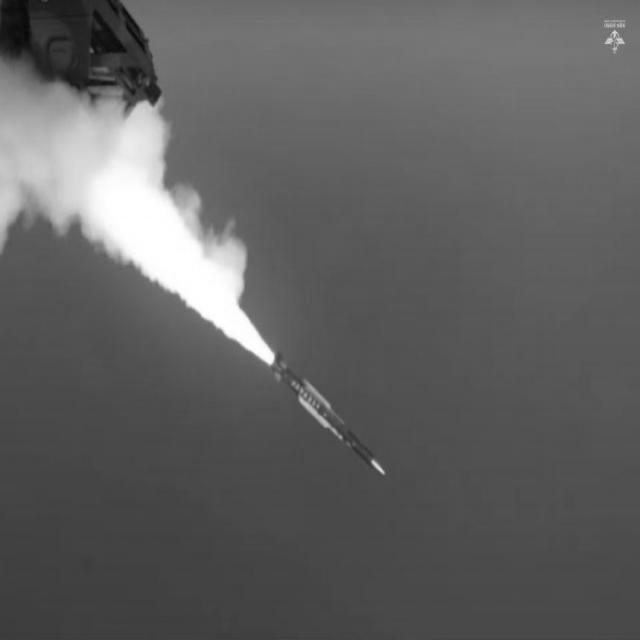Missile: (269, 349, 394, 484)
